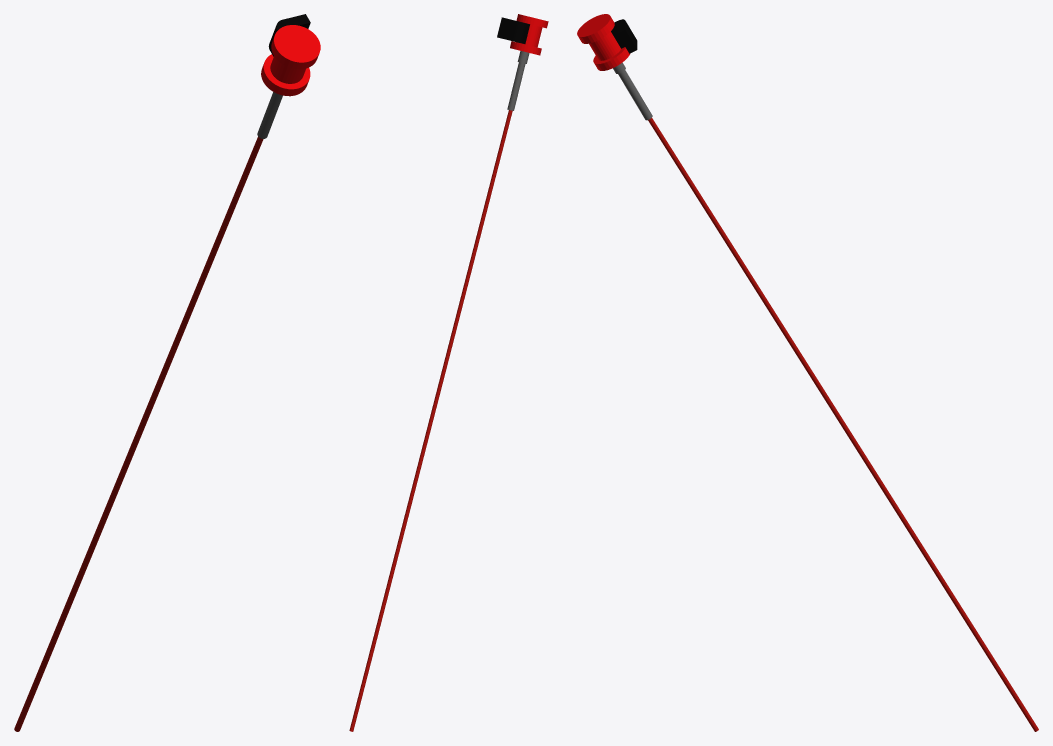
The model's file is tuzak2.fbx.
3 views of the same model, side by side, from view 1: azimuth 30°, elevation 25°; view 2: azimuth 150°, elevation 25°; view 3: azimuth 270°, elevation 25° (orthographic). The views are drawn at different scales.
Visible parts, largest first — view 1: Cylinder.043, Cylinder.038; view 2: Cylinder.043, Cylinder.038; view 3: Cylinder.043, Cylinder.038.
Part boxes in pixels (x1,y1,x2,y2): Cylinder.043: (14, 136, 263, 731); Cylinder.038: (257, 14, 320, 138); Cylinder.043: (349, 110, 512, 731); Cylinder.038: (497, 14, 548, 110); Cylinder.043: (648, 118, 1038, 731); Cylinder.038: (577, 14, 652, 120).
Size of the model in its own units: 33.72 by 590 by 345.
